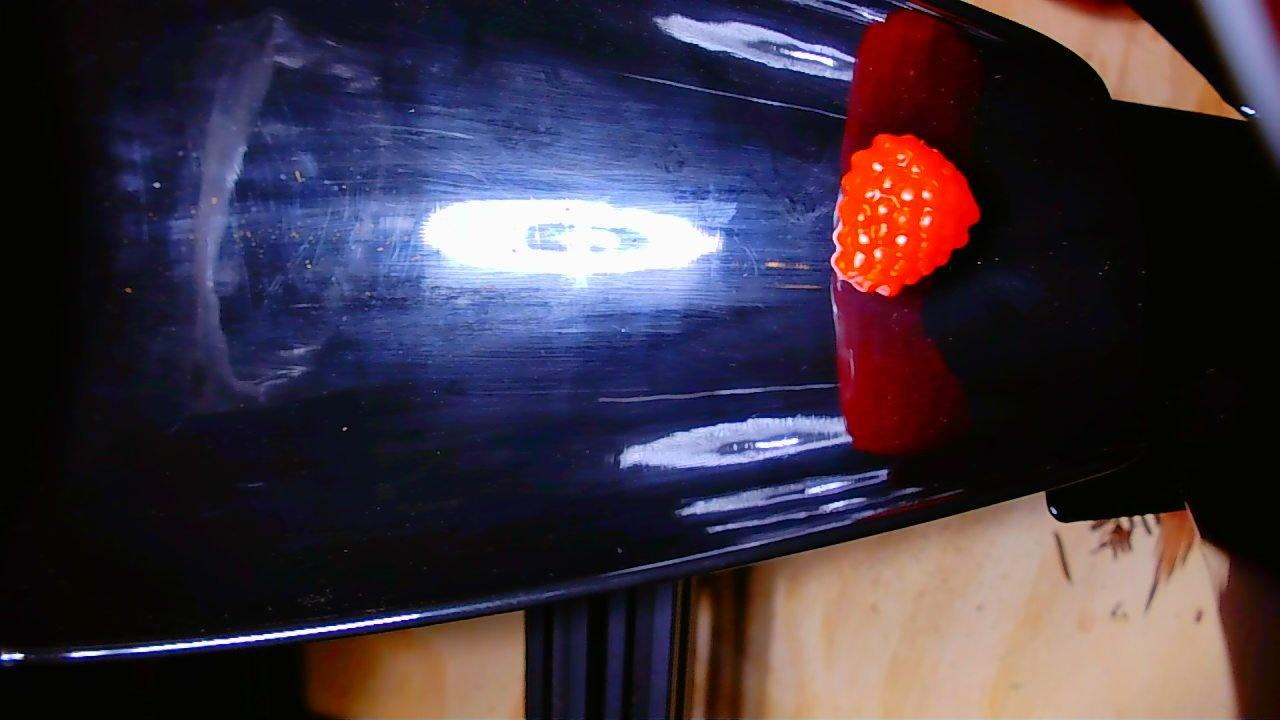berry: (830, 133, 979, 296)
